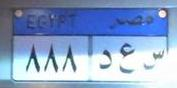8: (24, 40, 41, 75), (43, 41, 60, 75), (61, 42, 77, 76)
ain: (118, 40, 136, 77)
daal: (98, 47, 114, 71)
seen: (141, 45, 165, 75)
